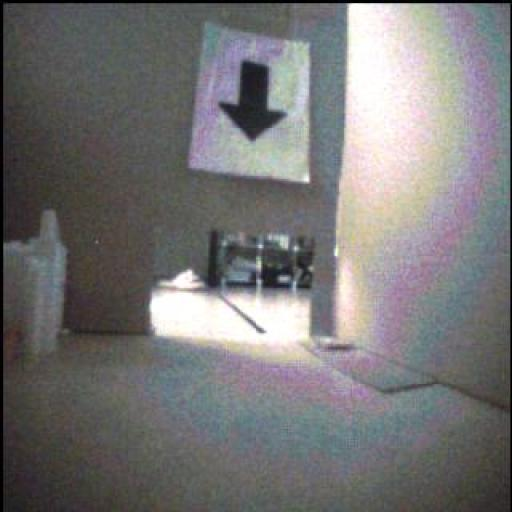arrow: (221, 62, 288, 142)
